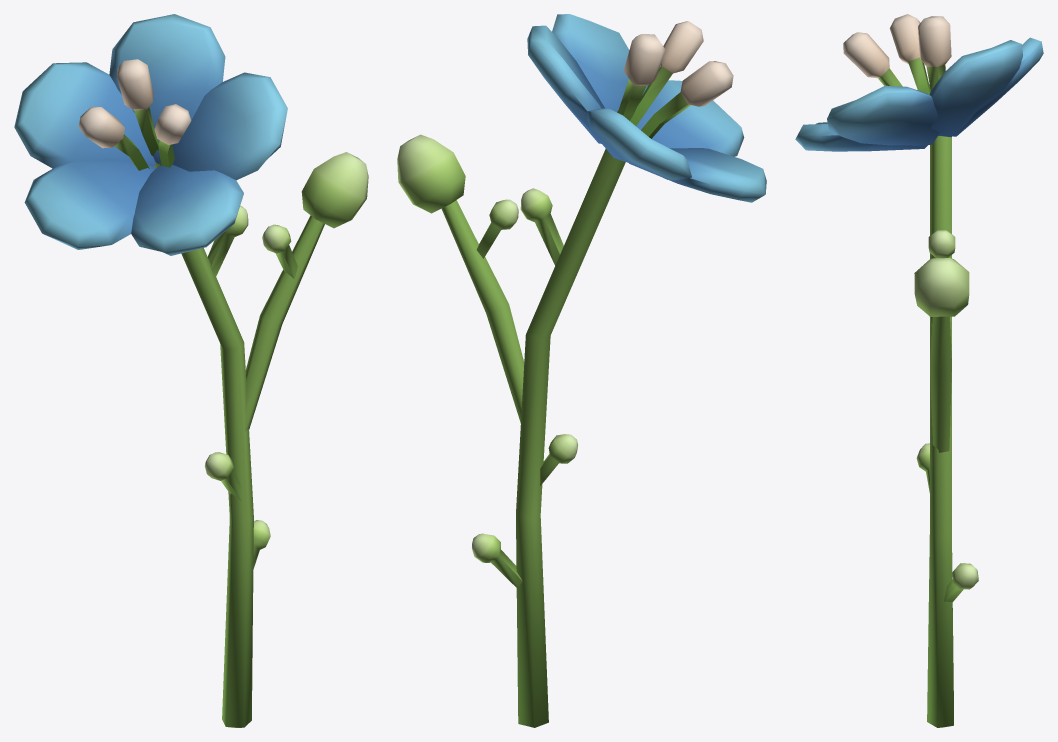
The model's file is flax_flower_A.fbx.
3 renders of one model, left to right at view 1: azimuth 30°, elevation 25°; view 2: azimuth 150°, elevation 25°; view 3: azimuth 270°, elevation 25°, orthographic. The views are drawn at different scales.
Parts seen in each view (by area): view 1: flax_flower_A; view 2: flax_flower_A; view 3: flax_flower_A.
Boxes of the visible parts, x1,y1,x2,y2 form: flax_flower_A: [14, 14, 368, 727]; flax_flower_A: [397, 14, 766, 727]; flax_flower_A: [795, 14, 1043, 727].
Bounding box in the file's own units: 49.95 × 98.59 × 33.45.
